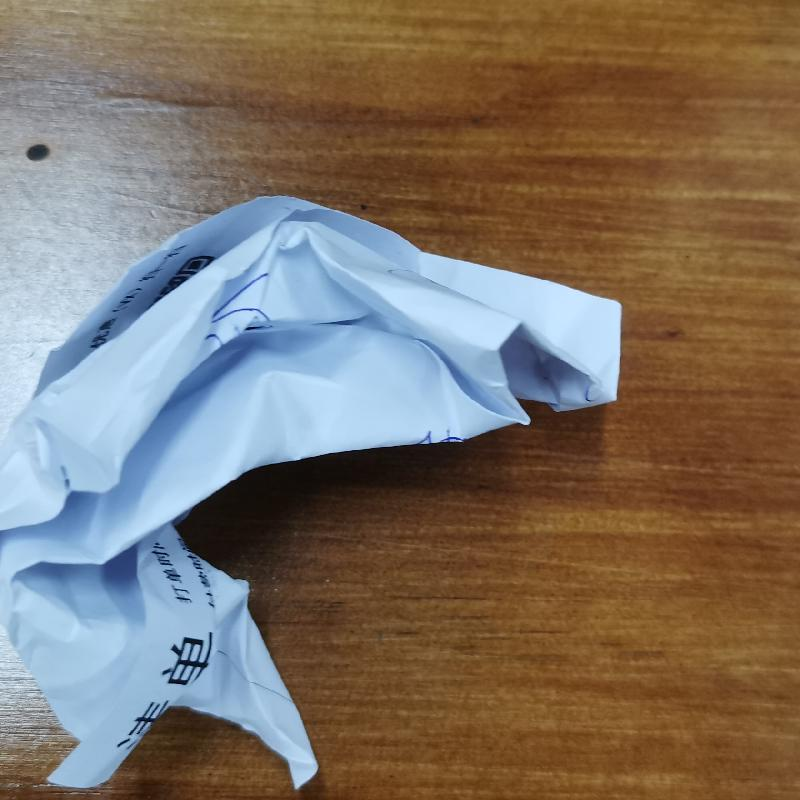spitball: (4, 191, 630, 793)
